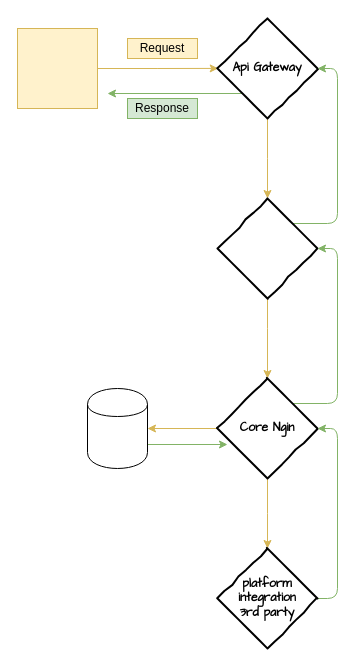
Image size: 363x666. Some labels were removed from this diagram. Each missing label, with the box of its shape:
Messenger: (16, 28, 98, 108)
mysql: (86, 388, 148, 468)
Social: (216, 197, 318, 299)
